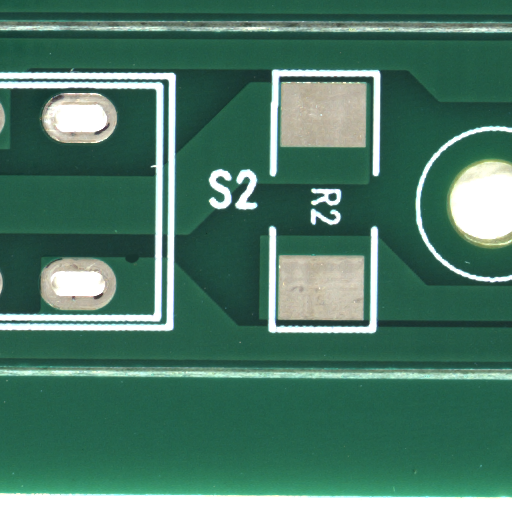Mouse_bite: (131, 258, 146, 267)
